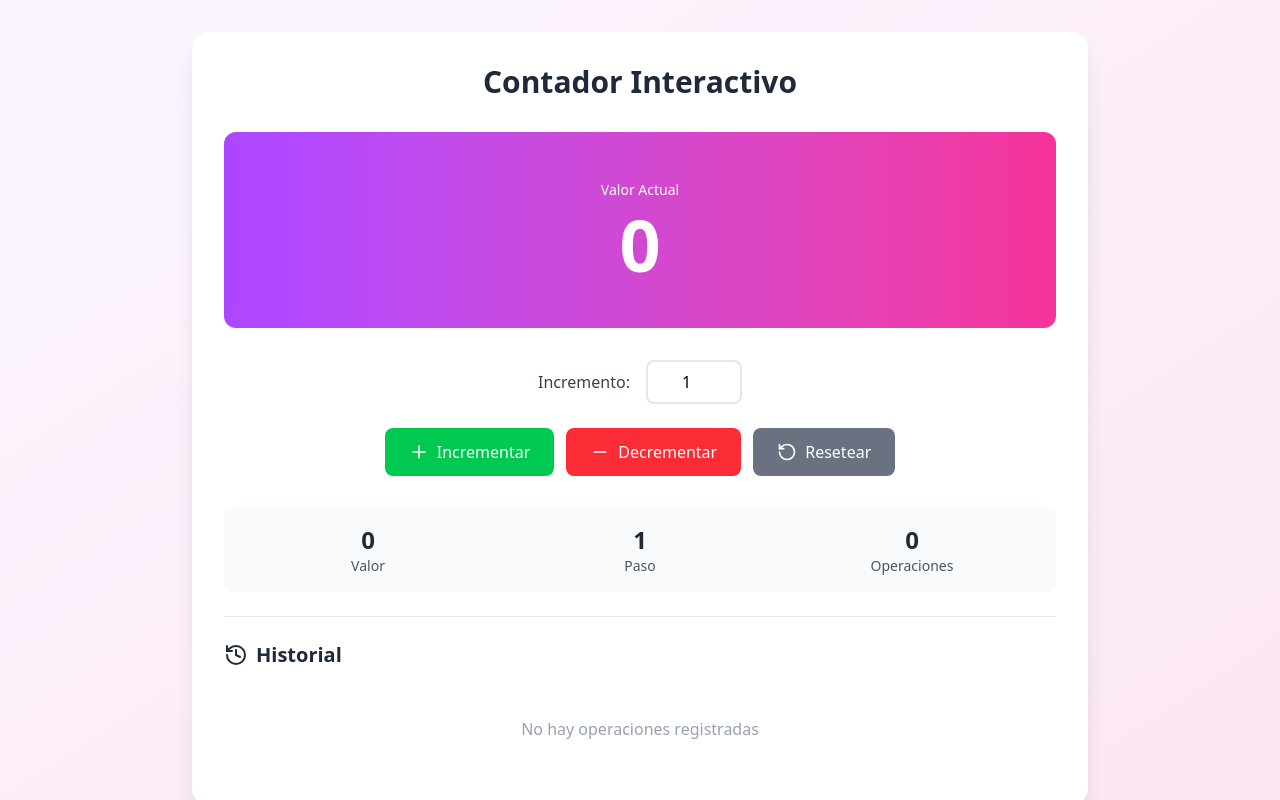
Test: Bloque de pruebas para App de Counter › Funcionalidad de incremento › debe incrementar múltiples veces correctamente
The width and height of the screenshot is (1280, 800).
Click the button labelled "Incrementar": [469, 452] box [385,428,554,476]
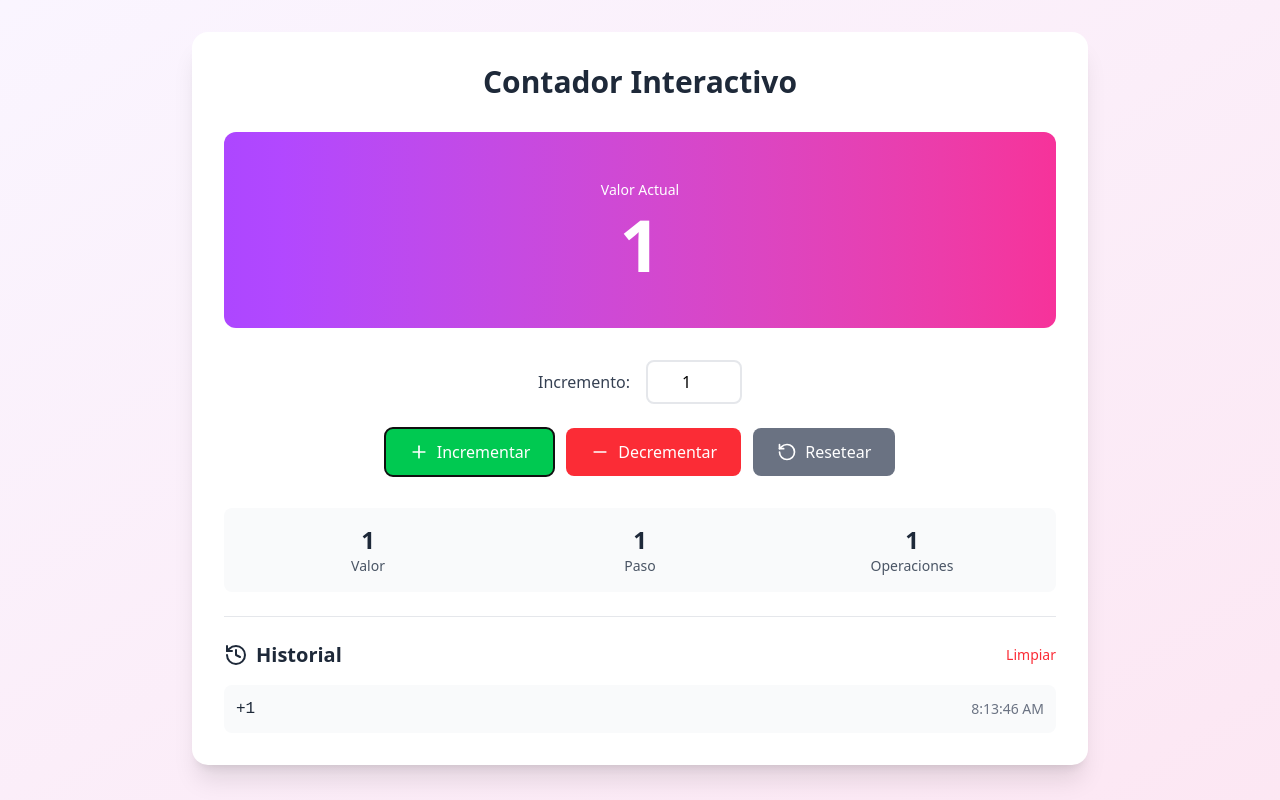
Click the button labelled "Incrementar": [469, 452] box [385,428,554,476]
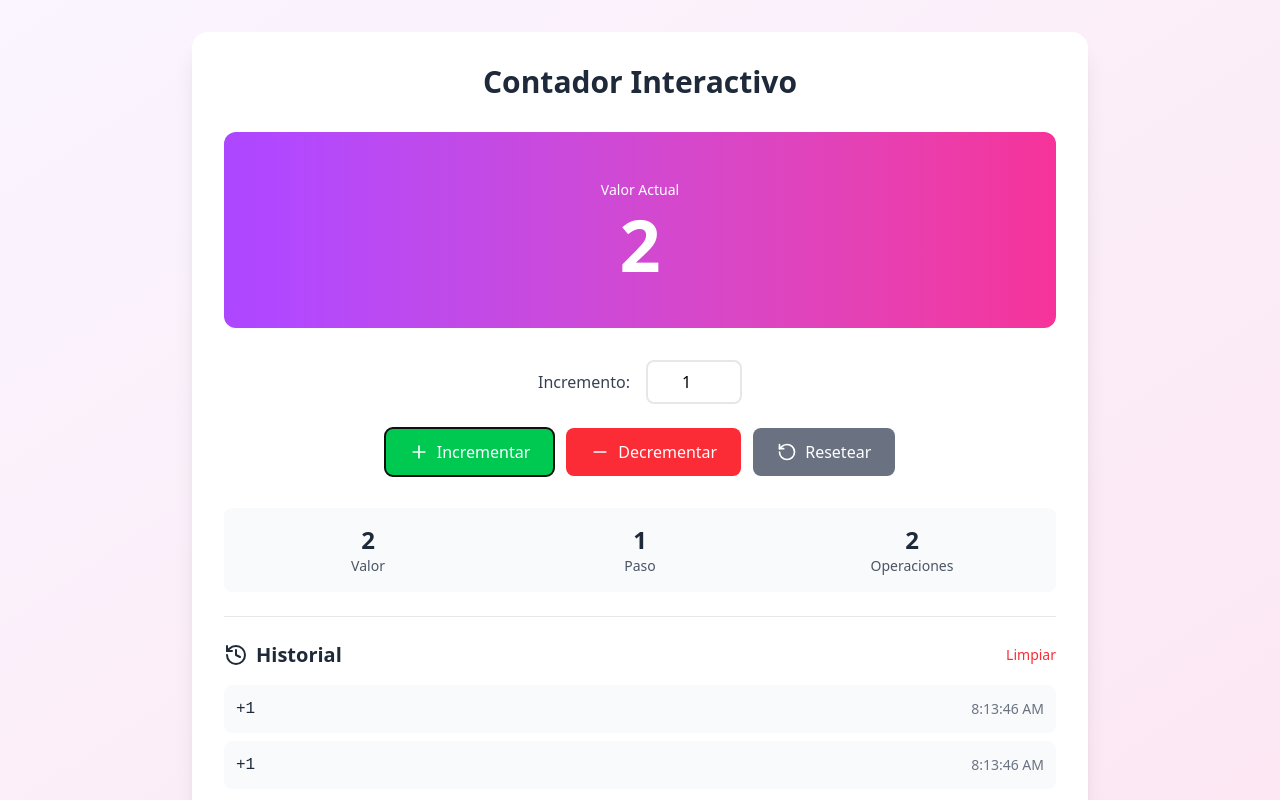
Click the button labelled "Incrementar": [469, 452] box [385,428,554,476]
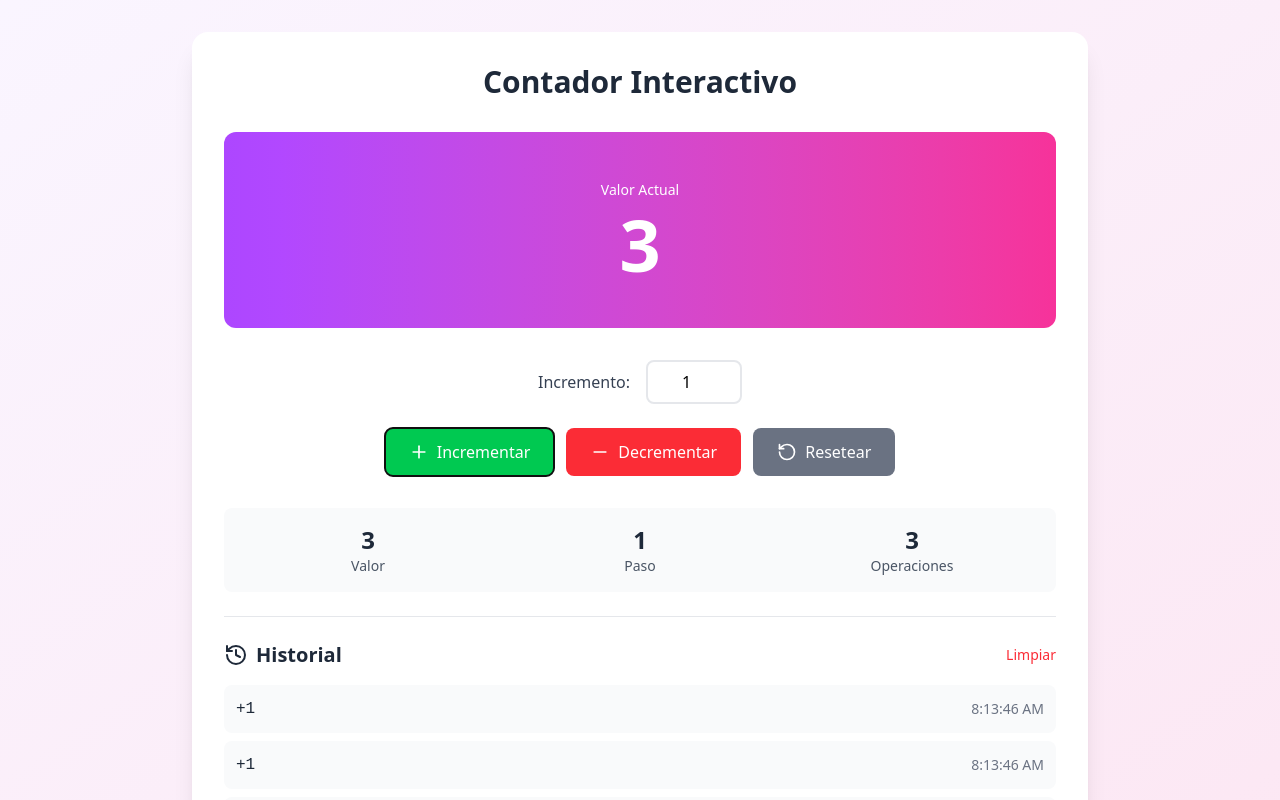
Now the text with test id "counter-value" reads "3", box [619,195,661,293]
